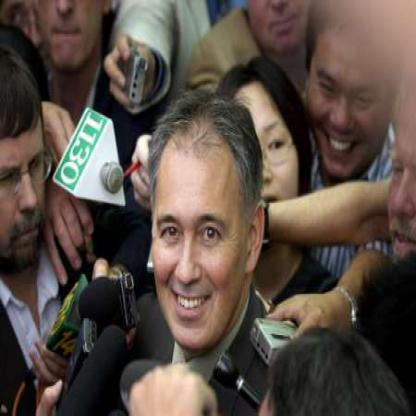face: (148, 110, 252, 354), (308, 1, 394, 183), (221, 72, 300, 245), (1, 59, 51, 277)
